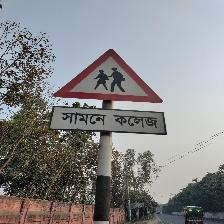College-in-front: (51, 41, 168, 153)
